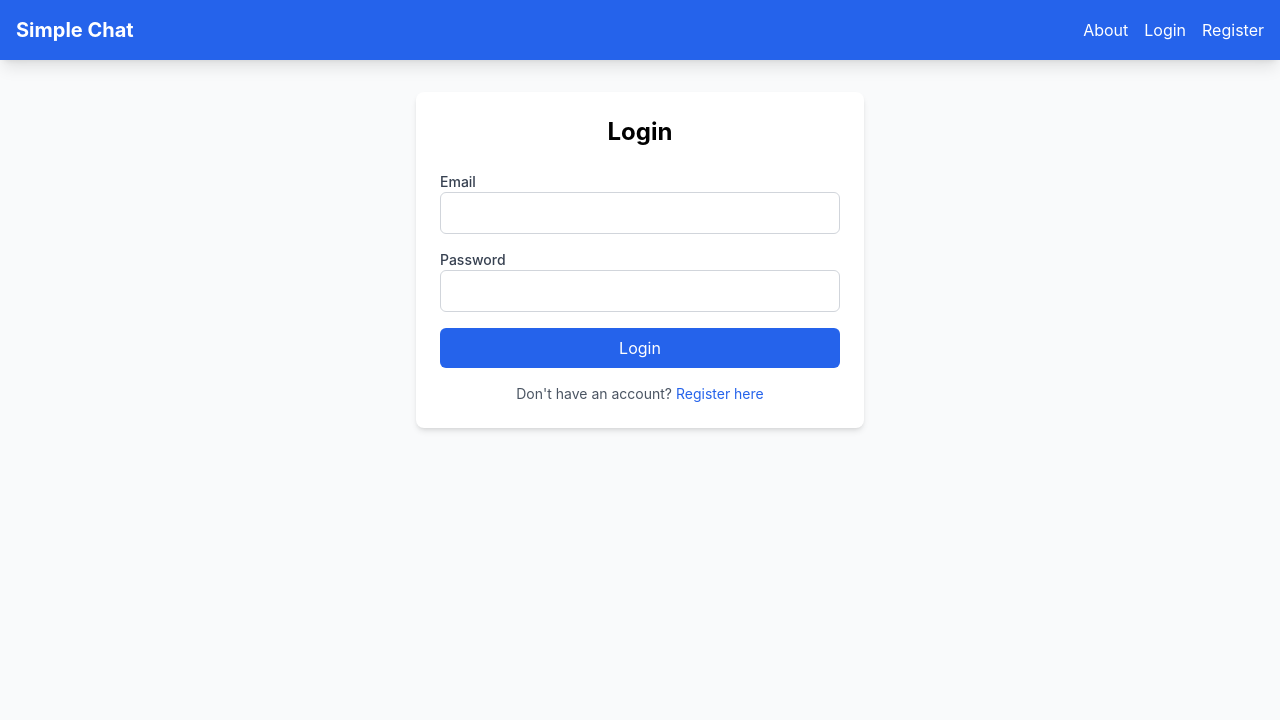
Scenario: Authentication Flow › Login › should successfully login with valid credentials
Type "test@example.com" into the field named "email". click: (640, 213)
box: x1=440 y1=192 x2=840 y2=234
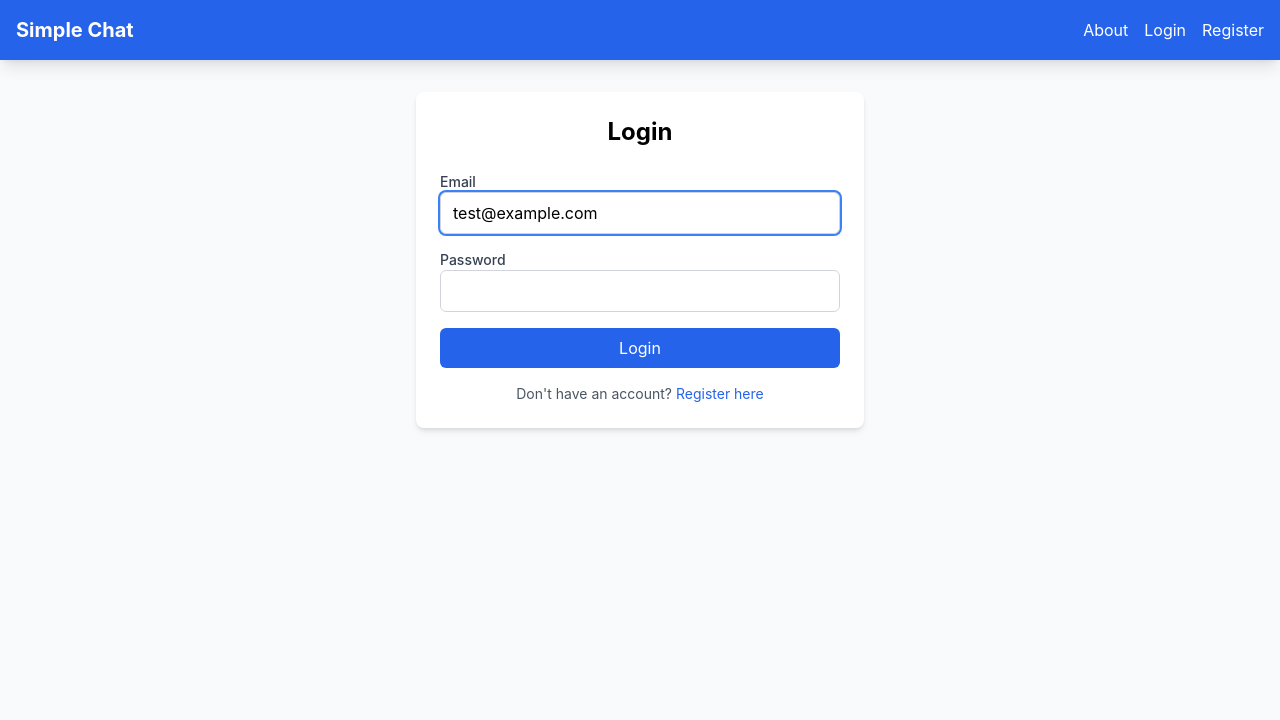
Type "password123" into the password field named "password". click: (640, 291)
box: x1=440 y1=270 x2=840 y2=312
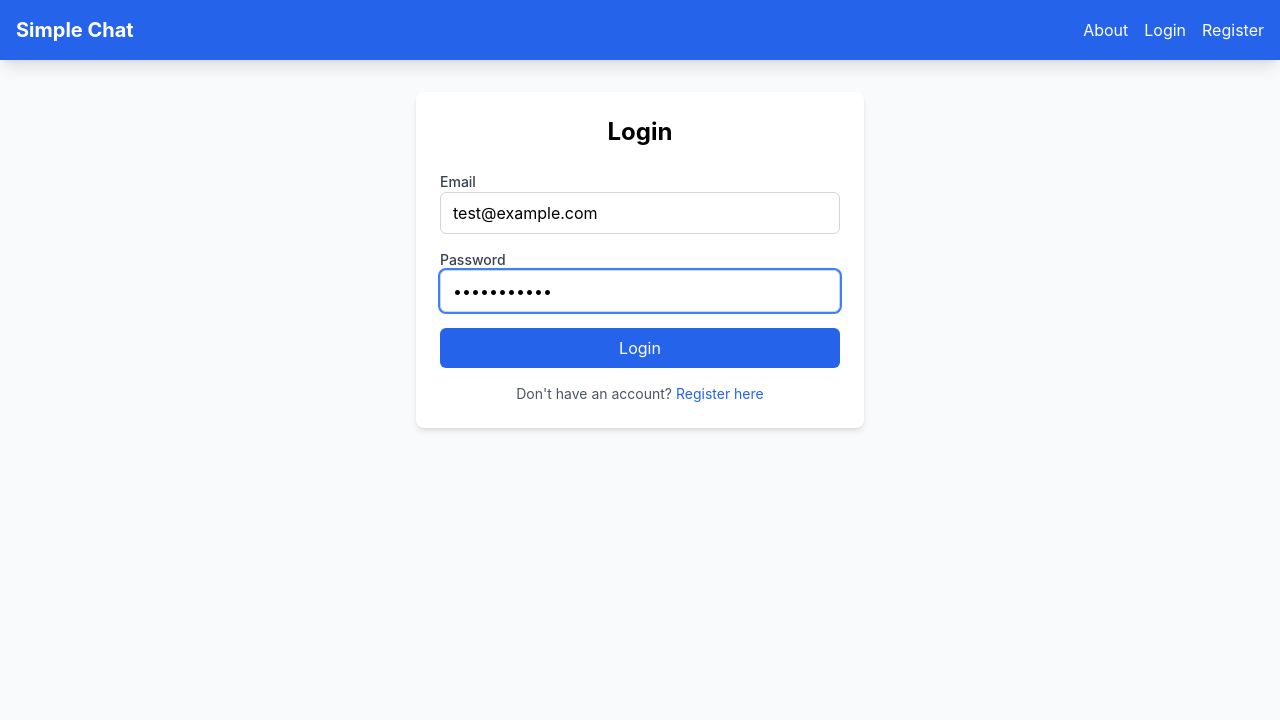
Click the submit button. click: (640, 348)
box: x1=440 y1=328 x2=840 y2=368
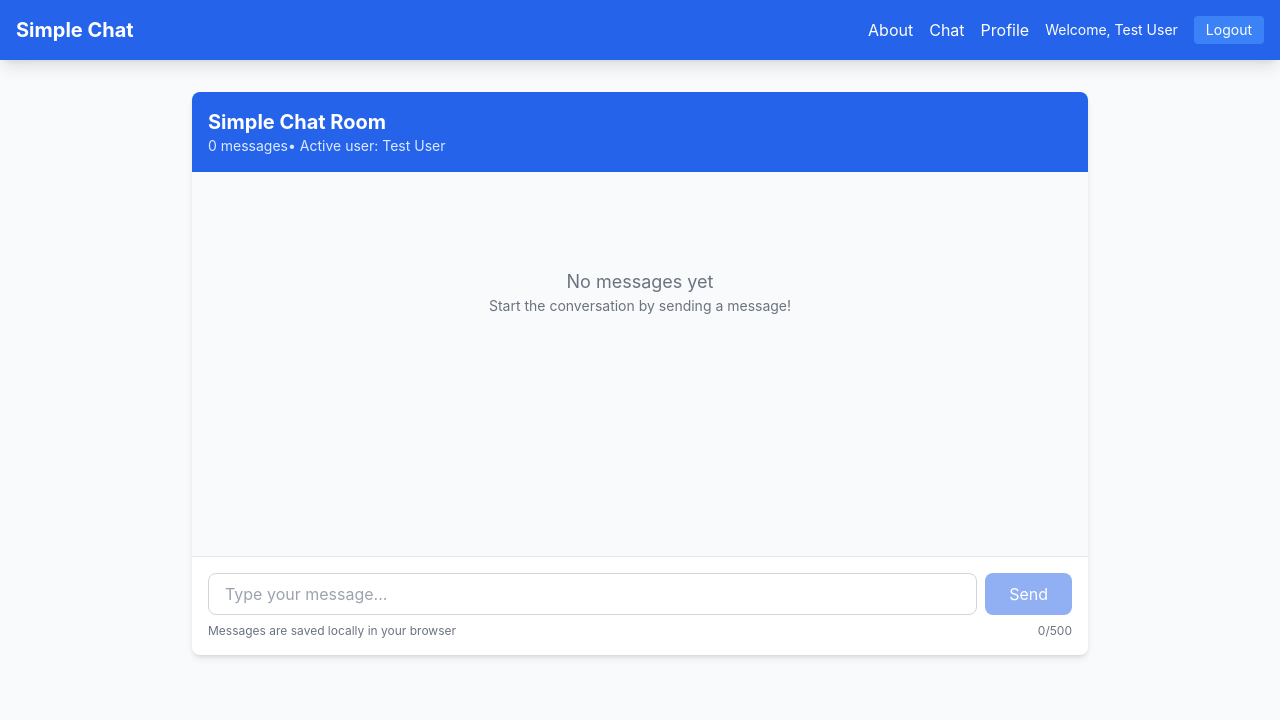
Expected: the heading "Simple Chat Room" is shown, x1=208 y1=110 x2=386 y2=134
